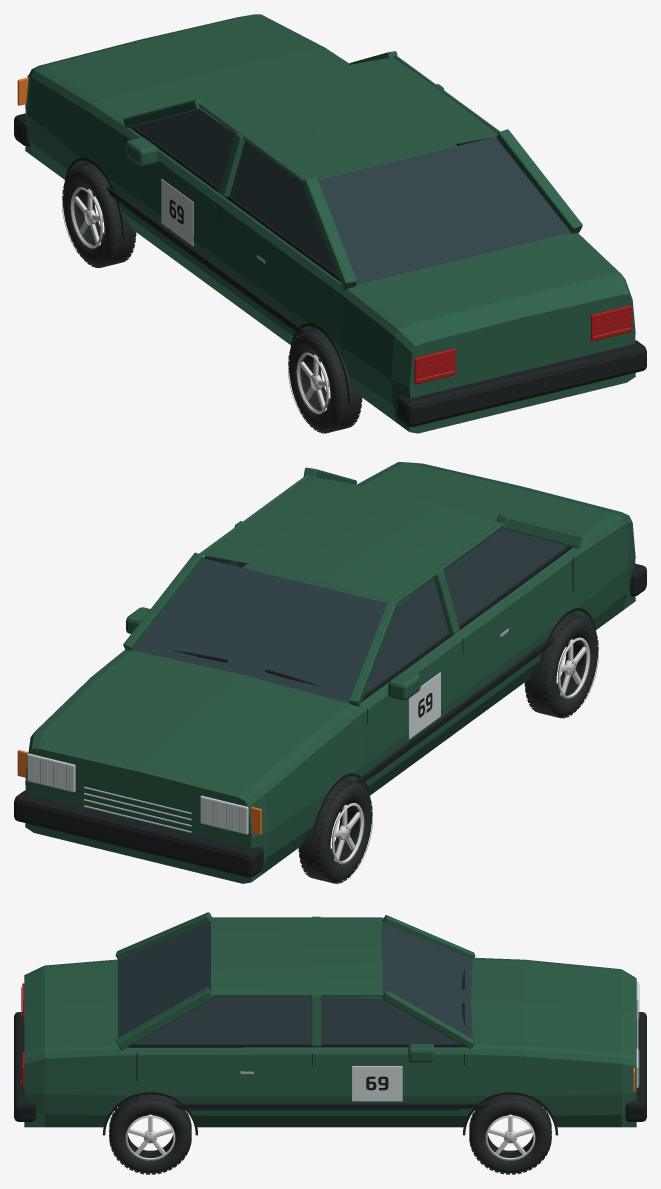
File: lovo940voc.glb
The picture shows the model from 3 angles, top to bottom: view 1: azimuth 30°, elevation 25°; view 2: azimuth 150°, elevation 25°; view 3: azimuth 270°, elevation 25°; orthographic projection. The views are drawn at different scales.
Parts seen in each view (by area): view 1: lovo_body, wheel_rl, wheel_fl; view 2: lovo_body, wheel_fl, wheel_rl; view 3: lovo_body, wheel_fr, wheel_rr.
Boxes of the visible parts, bbox=[...] form: lovo_body: bbox=[14, 14, 646, 433]; wheel_rl: bbox=[288, 329, 362, 433]; wheel_fl: bbox=[62, 163, 136, 267]; lovo_body: bbox=[14, 462, 646, 883]; wheel_fl: bbox=[298, 779, 372, 883]; wheel_rl: bbox=[524, 613, 598, 718]; lovo_body: bbox=[14, 912, 646, 1135]; wheel_fr: bbox=[469, 1094, 551, 1174]; wheel_rr: bbox=[109, 1094, 191, 1174].
Bounding box in the file's own units: 1.99 × 1.47 × 4.87.
